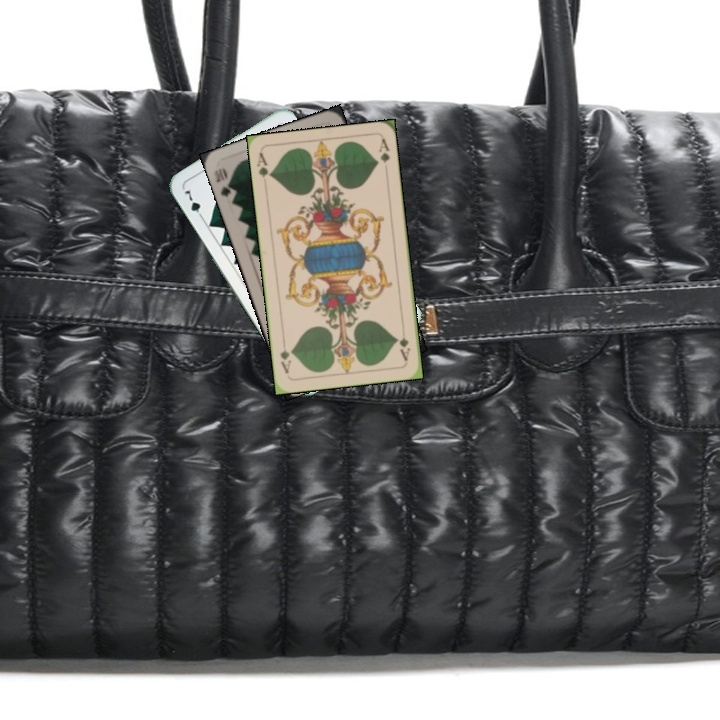G10: (210, 163, 239, 201)
G7: (180, 184, 206, 222)
GA: (394, 323, 413, 363), (253, 149, 274, 181)
